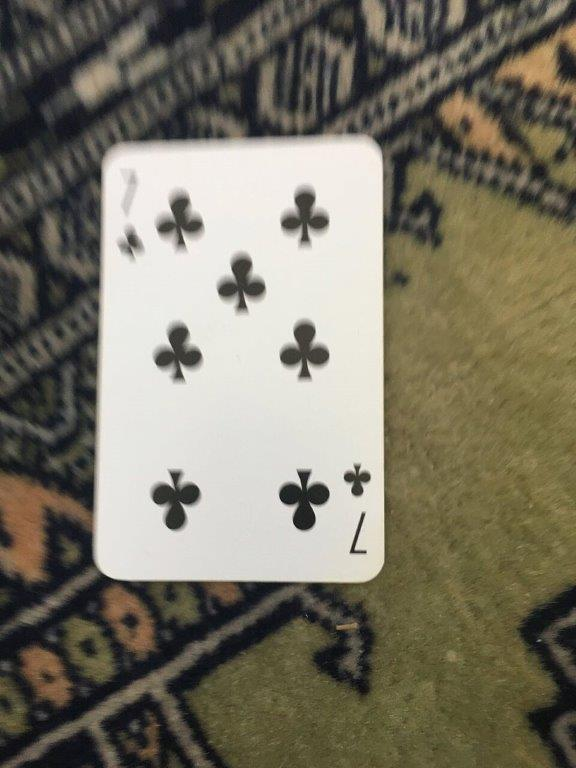7C: (89, 129, 389, 586)
